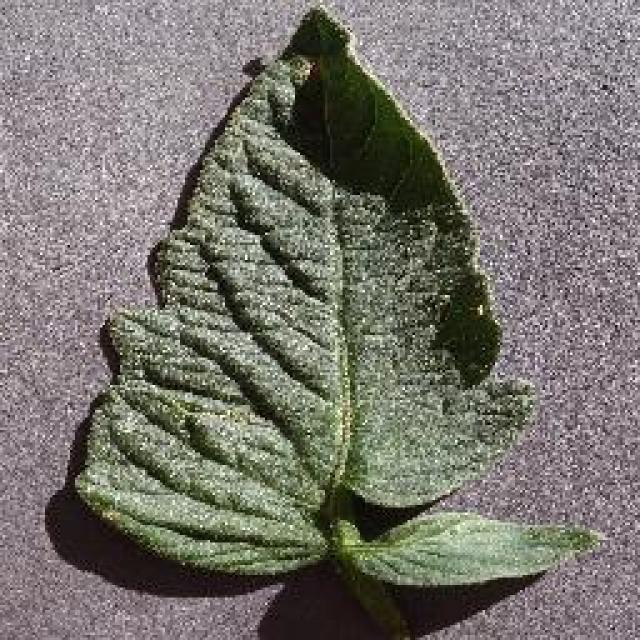Tomato healthy leaf: (91, 2, 606, 592)
